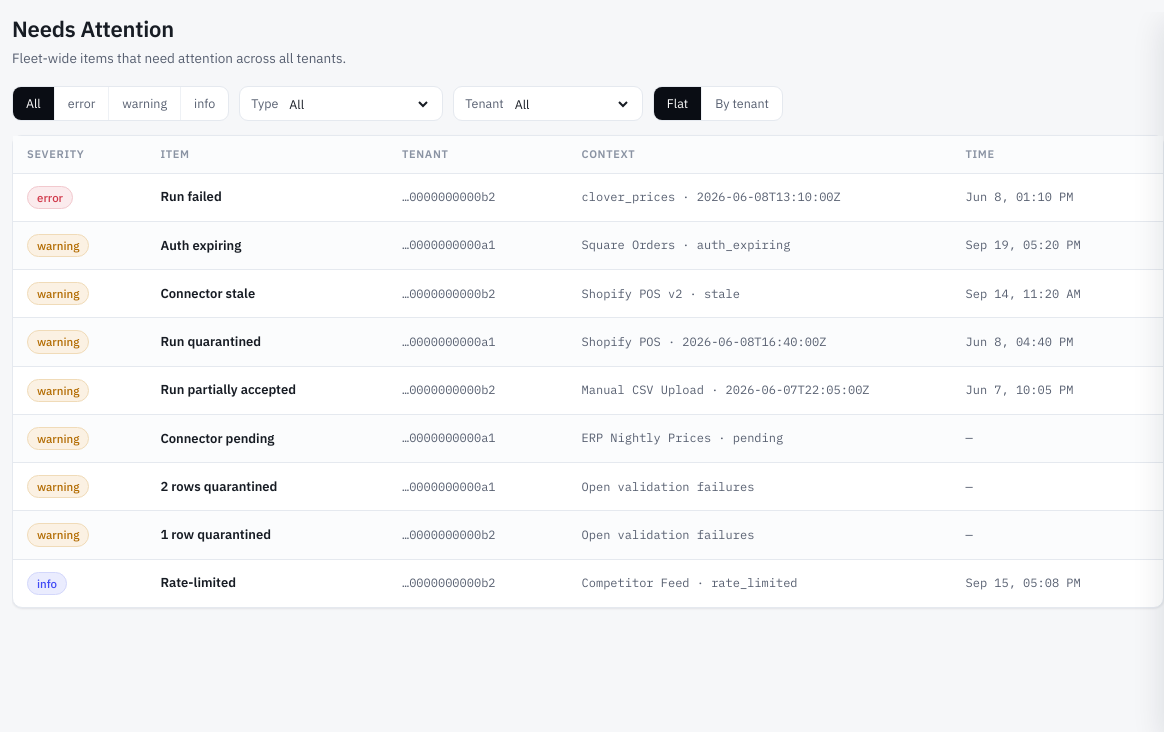
Scenario: Needs attention — PLATFORM (fixture mode): filterable triage › tenant filter is auto-populated from present tenant_ids and narrows the table
The width and height of the screenshot is (1164, 732).
Expected: the heading "Needs Attention" is shown, [12,14,174,43]
Select "…0000000000b2" in the dropdown labelled "Tenant" at coordinates (571, 104), box [511,95,631,113]
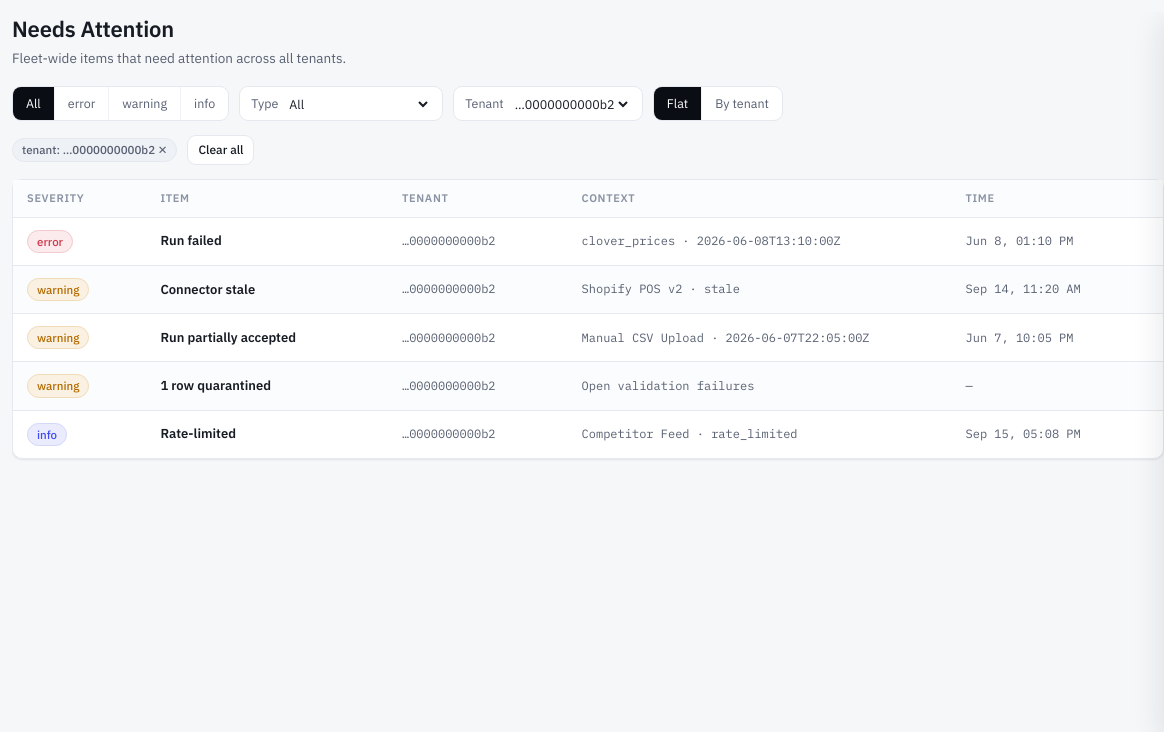
Expected: the text "…0000000000b2" in the row of "Run failed" is shown, [402,233,496,248]
Expected: the text "…0000000000a1" is not shown
